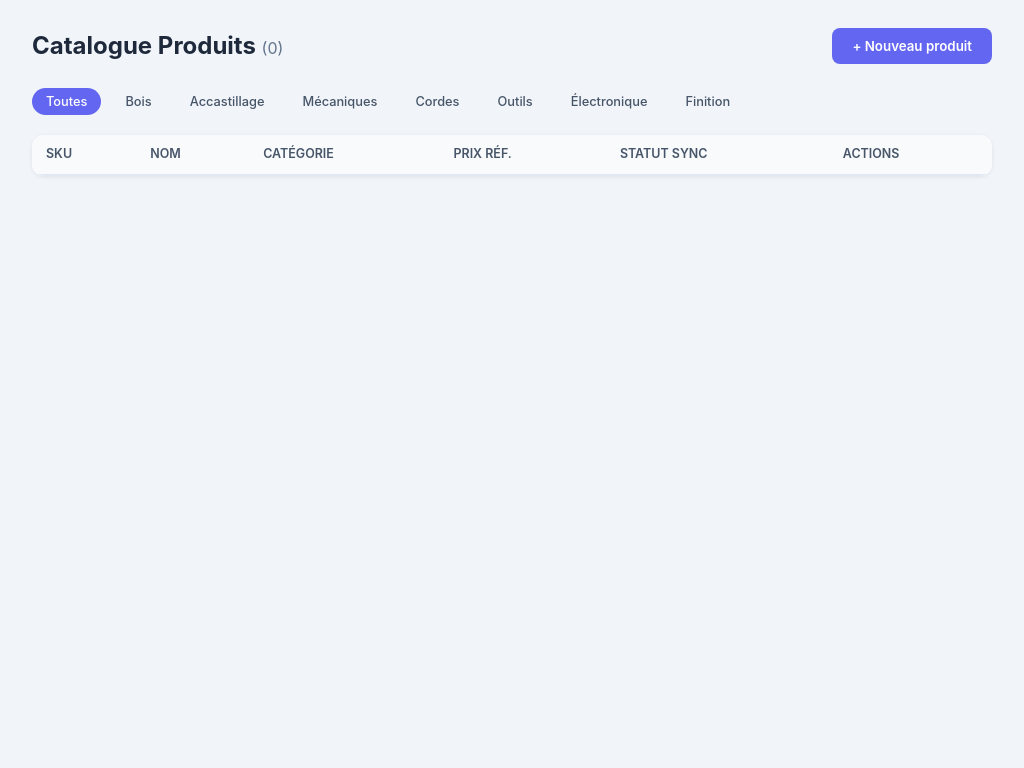
ProductsPage › le formulaire produit a la classe form-grid-2col (1 colonne sur mobile)
Click the button "+ Nouveau produit" at (912, 46), box [832,28,992,64]
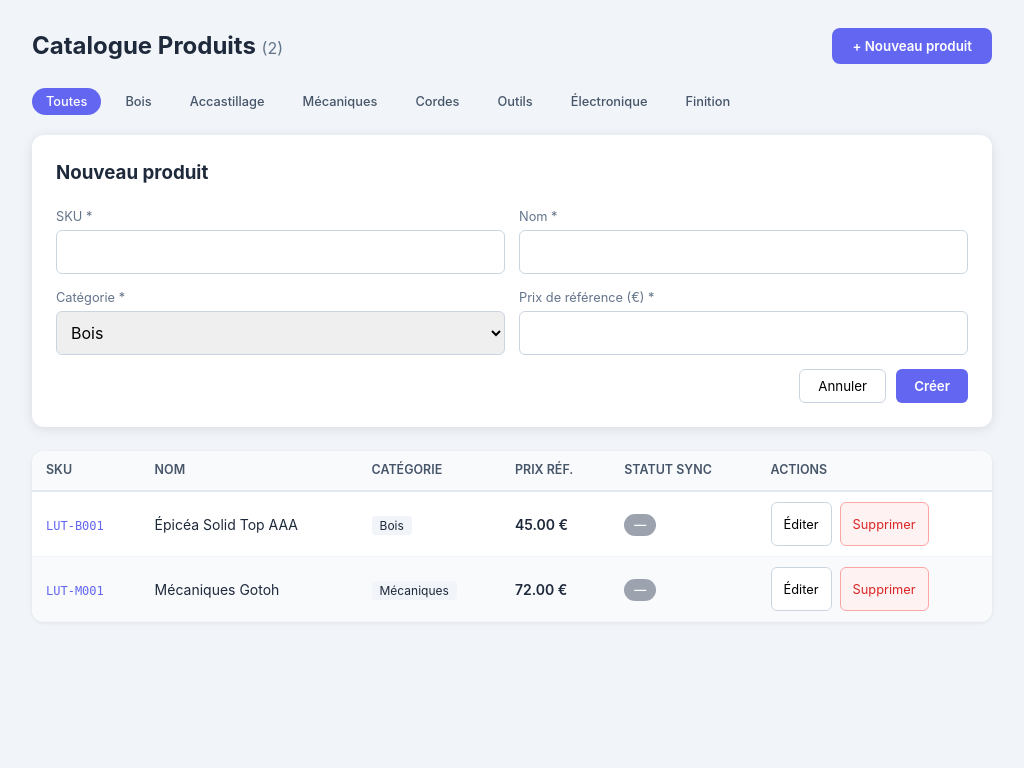
Expected: the form is shown, [56,207,968,404]
